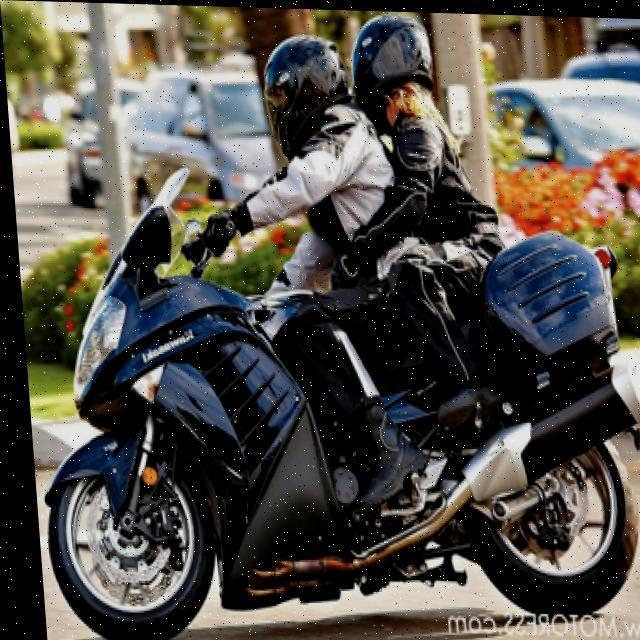Helmet: (254, 21, 348, 165)
